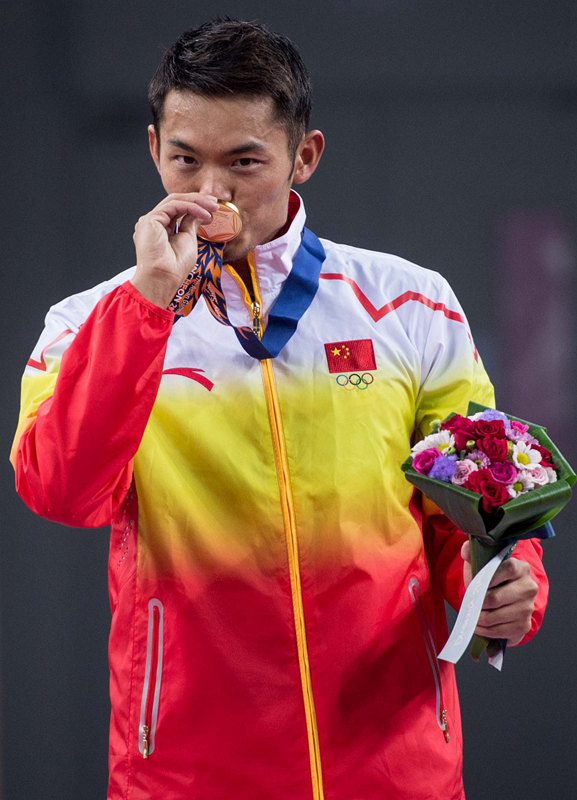face: (158, 85, 289, 253)
